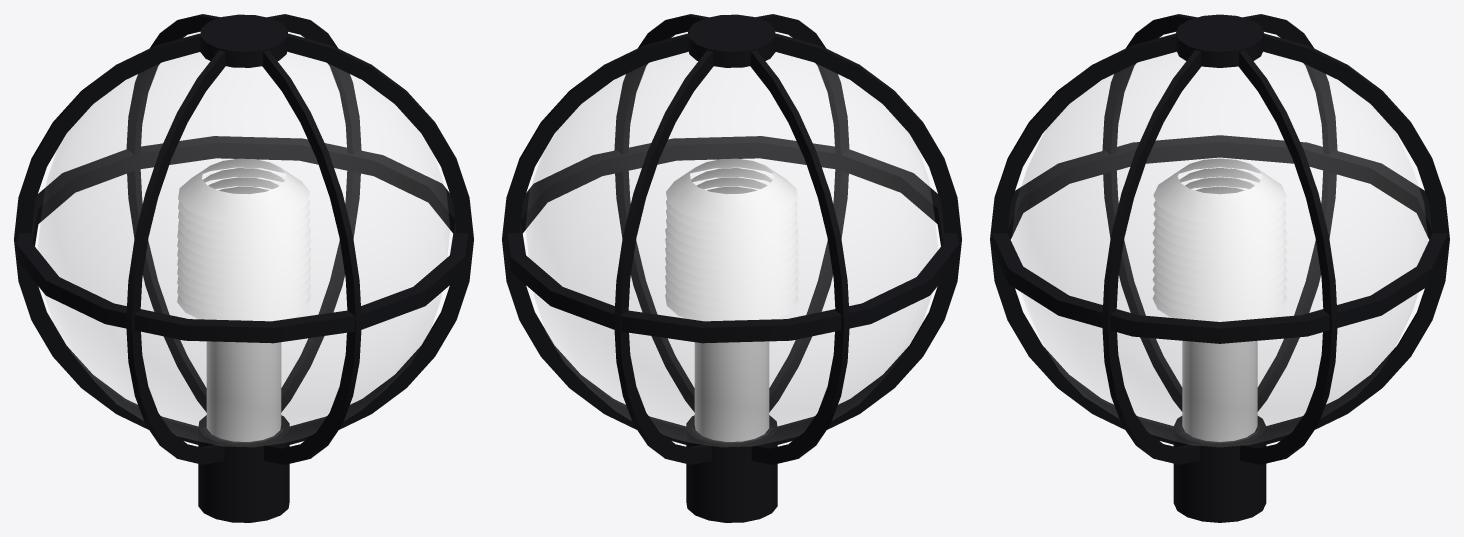
The model's file is Globus.glb.
3 views of the same model, side by side, from view 1: azimuth 30°, elevation 25°; view 2: azimuth 150°, elevation 25°; view 3: azimuth 270°, elevation 25° (orthographic).
Parts seen in each view (by area): view 1: Glas, BezierCurve.002, Sphere.001; view 2: Glas, BezierCurve.002, Sphere.001; view 3: Glas, BezierCurve.002, Sphere.001.
Part boxes in pixels (left/top/right/bottom): Glas: left=38, top=52, right=449, bottom=446; BezierCurve.002: left=17, top=14, right=468, bottom=522; Sphere.001: left=14, top=14, right=473, bottom=464; Glas: left=526, top=52, right=937, bottom=446; BezierCurve.002: left=507, top=14, right=958, bottom=522; Sphere.001: left=502, top=14, right=961, bottom=464; Glas: left=1012, top=52, right=1427, bottom=446; BezierCurve.002: left=991, top=14, right=1448, bottom=522; Sphere.001: left=990, top=14, right=1449, bottom=464.
Size of the model in its own units: 0.5496 by 0.6231 by 0.5521.
3 materials, 2 textured.
